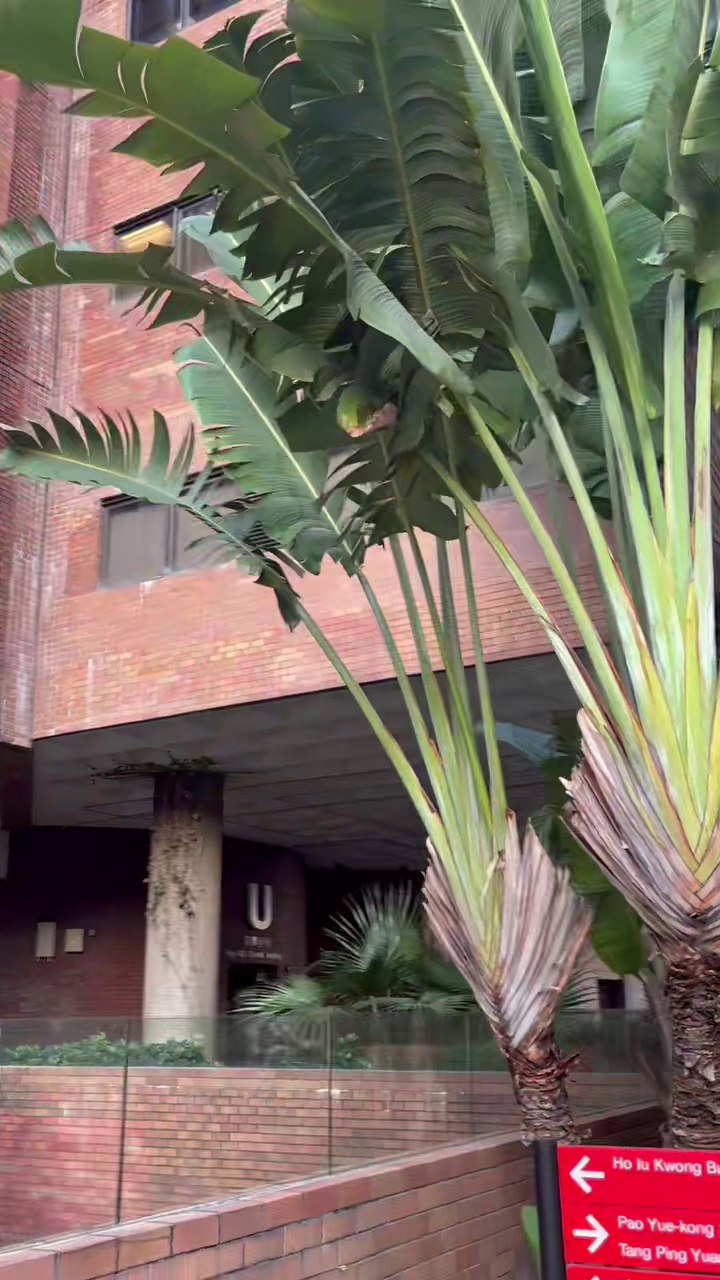Travellers-tree: (0, 0, 719, 1147)
